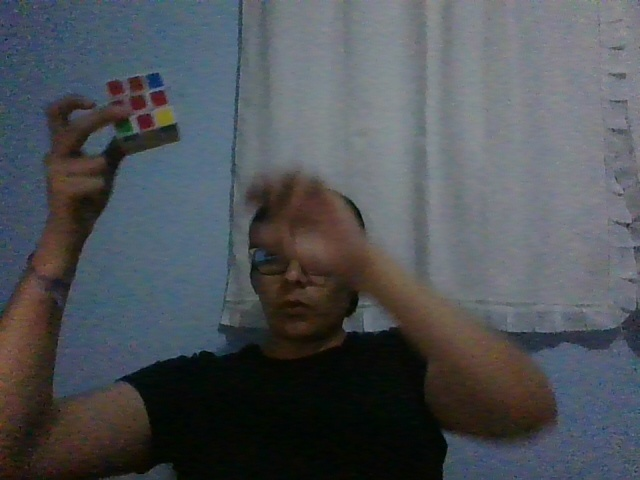rubik: (104, 71, 181, 157)
